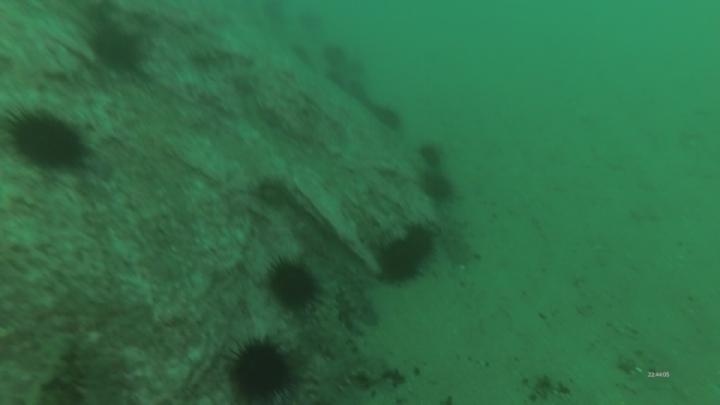echinus: (1, 101, 90, 177), (224, 333, 303, 405), (258, 254, 327, 323), (83, 21, 148, 75), (378, 239, 428, 289), (399, 219, 439, 264), (419, 167, 459, 208), (415, 140, 449, 173), (371, 102, 405, 132), (322, 44, 348, 73), (321, 68, 345, 92)
holothurian: (189, 46, 253, 76)
